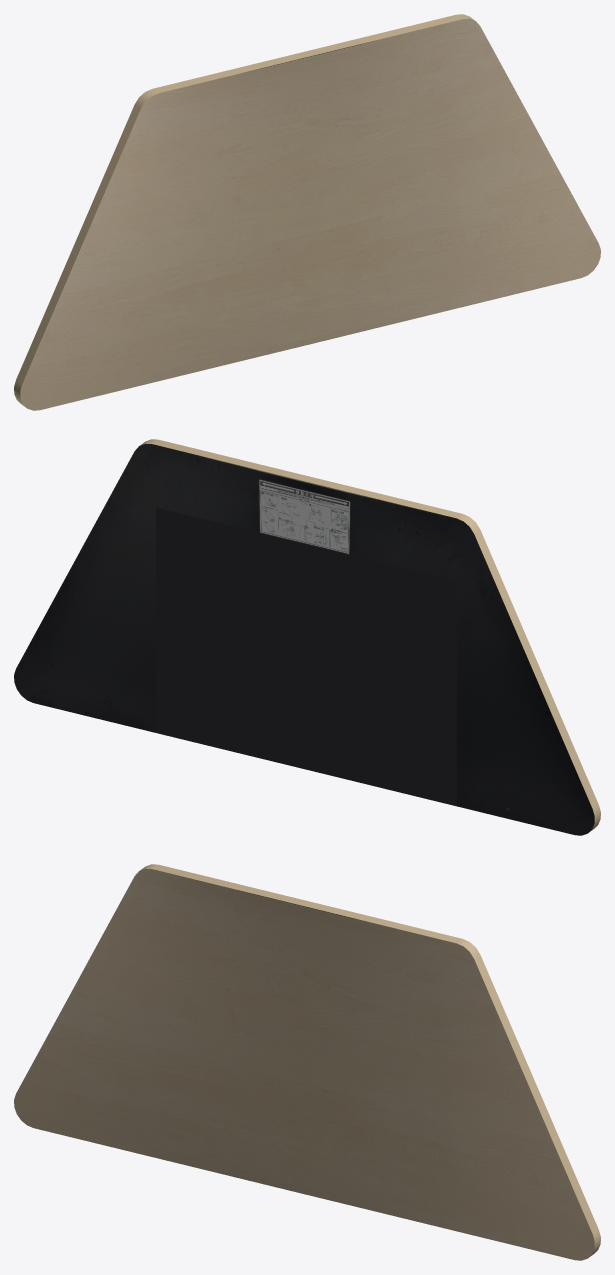
The model's file is desk_top.obj.
3 views of the same model, one above another, from view 1: azimuth 30°, elevation 25°; view 2: azimuth 150°, elevation 25°; view 3: azimuth 330°, elevation 25° (orthographic).
Parts seen in each view (by area): view 1: paint_matte_texture_1, paint_matte_0; view 2: paint_matte_texture_0, paint_matte_0; view 3: paint_matte_texture_1, paint_matte_0.
Part boxes in pixels (x1=…): paint_matte_texture_1: x1=20, y1=18, x2=600, y2=410; paint_matte_0: x1=14, y1=14, x2=474, y2=407; paint_matte_texture_0: x1=14, y1=443, x2=594, y2=835; paint_matte_0: x1=140, y1=439, x2=600, y2=832; paint_matte_texture_1: x1=14, y1=868, x2=594, y2=1260; paint_matte_0: x1=140, y1=864, x2=600, y2=1257.
Size of the model in its own units: 1.47 by 0.695 by 0.027.
3 materials, 2 textured.
